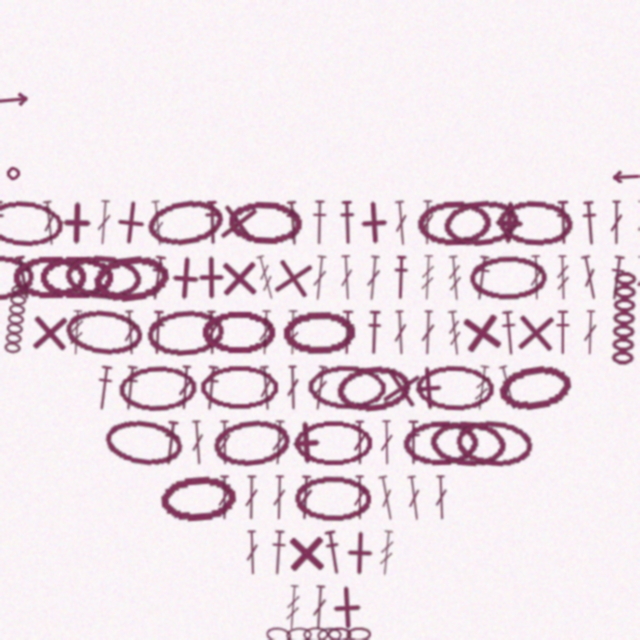chain: (102, 415, 186, 471), (144, 195, 226, 251), (495, 360, 576, 416), (90, 251, 171, 305), (211, 416, 293, 469), (63, 306, 144, 359), (441, 196, 522, 249), (454, 417, 535, 469), (334, 362, 414, 414), (63, 252, 144, 303), (145, 307, 225, 358), (158, 473, 237, 523), (428, 418, 507, 468), (496, 198, 575, 247), (118, 364, 198, 412), (307, 364, 386, 411), (415, 364, 494, 411), (227, 199, 304, 247), (402, 419, 480, 466), (469, 255, 548, 301), (416, 199, 493, 246), (294, 475, 371, 521), (294, 420, 372, 465), (200, 365, 278, 410), (282, 310, 357, 356), (201, 310, 277, 355), (12, 255, 88, 300), (39, 255, 115, 300), (0, 198, 64, 248), (0, 253, 36, 302), (265, 626, 292, 640), (286, 627, 312, 640), (303, 627, 329, 640), (317, 627, 342, 640), (327, 627, 352, 640), (346, 627, 371, 640)
double: (496, 364, 521, 411), (578, 254, 601, 301), (375, 475, 398, 521), (404, 475, 424, 521), (310, 365, 330, 411), (310, 255, 329, 301), (364, 255, 383, 301), (40, 200, 59, 246), (257, 365, 275, 411), (392, 200, 410, 246), (176, 365, 194, 410), (95, 200, 113, 245), (311, 585, 328, 630), (297, 475, 314, 520), (189, 420, 206, 465), (270, 420, 287, 465), (122, 310, 139, 355), (257, 310, 274, 355), (392, 310, 409, 355), (338, 255, 355, 300), (244, 530, 260, 575), (271, 475, 287, 520), (433, 475, 449, 520), (285, 365, 301, 410), (420, 310, 436, 355), (582, 310, 598, 355), (528, 255, 544, 300), (217, 475, 232, 520), (244, 475, 259, 520), (352, 475, 367, 520), (217, 420, 232, 465), (352, 420, 367, 465), (379, 420, 394, 465), (204, 310, 219, 355), (420, 200, 435, 245), (609, 200, 624, 245), (635, 200, 640, 245), (636, 255, 640, 300)
enseble_chain: (608, 271, 639, 368), (2, 284, 29, 355)
half_double: (321, 529, 345, 576), (11, 254, 35, 301), (146, 255, 169, 301), (160, 420, 182, 466), (93, 365, 115, 411), (471, 255, 493, 301), (606, 255, 628, 301), (120, 365, 141, 411), (201, 365, 222, 411), (499, 310, 519, 356), (283, 200, 303, 246), (580, 200, 600, 246), (269, 530, 288, 575), (148, 310, 167, 355), (338, 310, 356, 355), (365, 310, 383, 355), (392, 255, 410, 300), (203, 200, 221, 245), (338, 200, 356, 245), (554, 200, 572, 245), (405, 420, 422, 465), (554, 310, 571, 355), (311, 200, 328, 245), (0, 200, 6, 245)
noise: (0, 91, 30, 108), (610, 170, 640, 183), (5, 165, 22, 182)
single: (375, 362, 427, 414), (267, 252, 319, 304), (456, 307, 507, 358), (214, 198, 263, 248), (106, 198, 155, 247), (404, 364, 452, 412), (161, 254, 209, 302), (323, 584, 370, 631), (282, 419, 329, 466), (26, 309, 73, 356), (512, 309, 559, 356), (350, 199, 397, 246), (485, 199, 532, 246), (283, 530, 329, 576), (337, 530, 383, 576), (216, 255, 262, 301), (54, 200, 100, 246), (189, 255, 234, 300)
treble: (253, 254, 279, 301), (472, 365, 492, 411), (377, 530, 396, 576), (445, 310, 464, 356), (148, 200, 167, 246), (446, 255, 464, 301), (284, 585, 302, 630), (68, 310, 85, 355), (419, 255, 436, 300), (555, 255, 571, 300), (285, 310, 300, 355)
